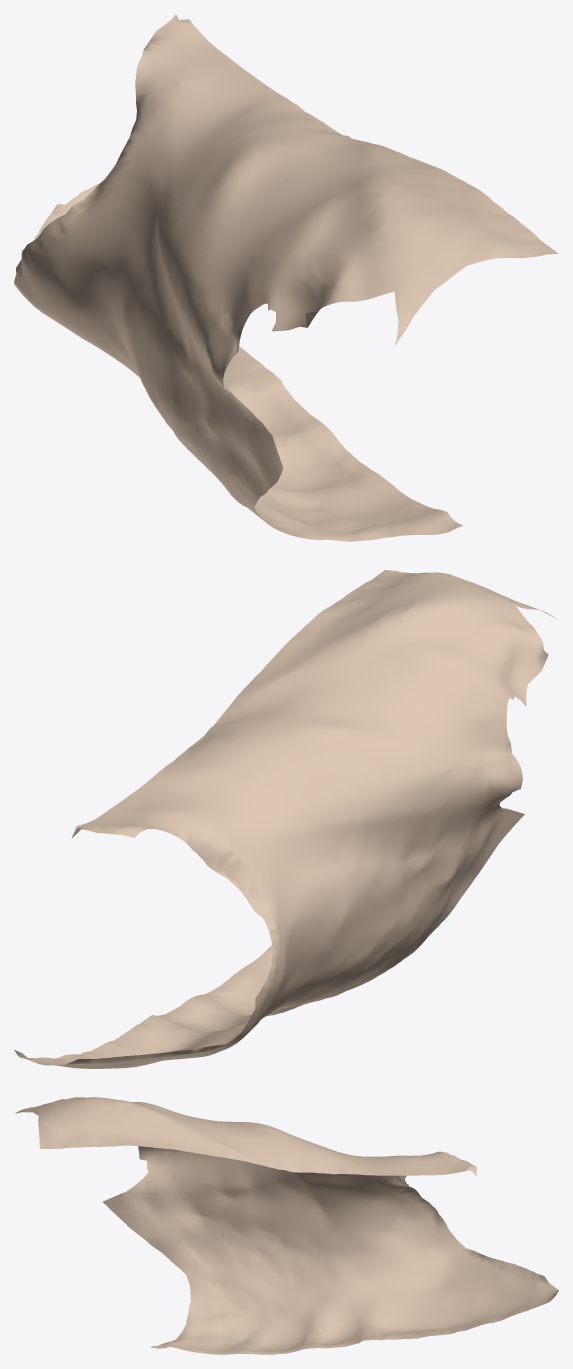
3 renders of one model, top to bottom at view 1: azimuth 30°, elevation 25°; view 2: azimuth 150°, elevation 25°; view 3: azimuth 270°, elevation 25°, orthographic. The views are drawn at different scales.
Parts seen in each view (by area): view 1: 右侧腹壁包被筋膜; view 2: 右侧腹壁包被筋膜; view 3: 右侧腹壁包被筋膜.
Part boxes in pixels (box(x1,y1,x2,y2)): 右侧腹壁包被筋膜: box(14, 14, 558, 541); 右侧腹壁包被筋膜: box(14, 570, 555, 1068); 右侧腹壁包被筋膜: box(15, 1097, 558, 1354).
Size of the model in its own units: 0.2516 by 0.379 by 0.815.
